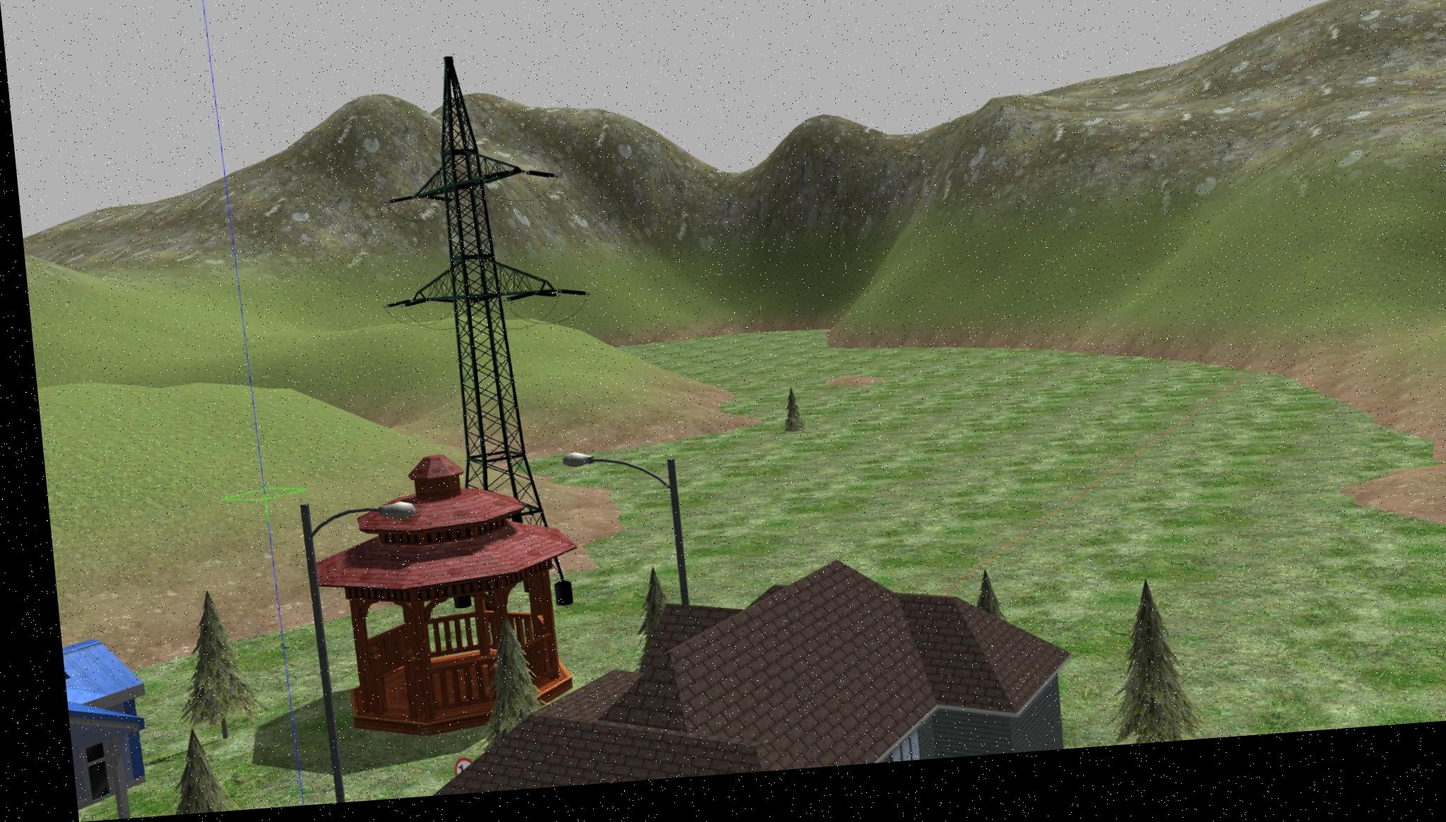tower: (384, 46, 573, 477)
